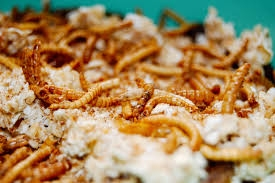kitchen_waste: (18, 40, 112, 110), (220, 60, 255, 121), (136, 84, 196, 119), (1, 143, 54, 182), (51, 86, 116, 116), (28, 153, 79, 183), (176, 83, 221, 106)
